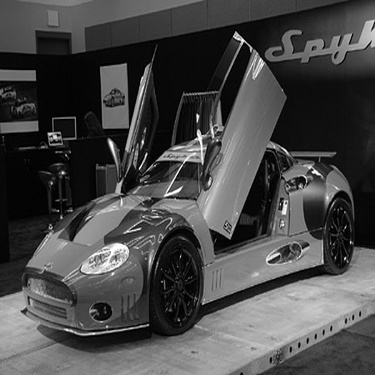car: (9, 21, 360, 348)
